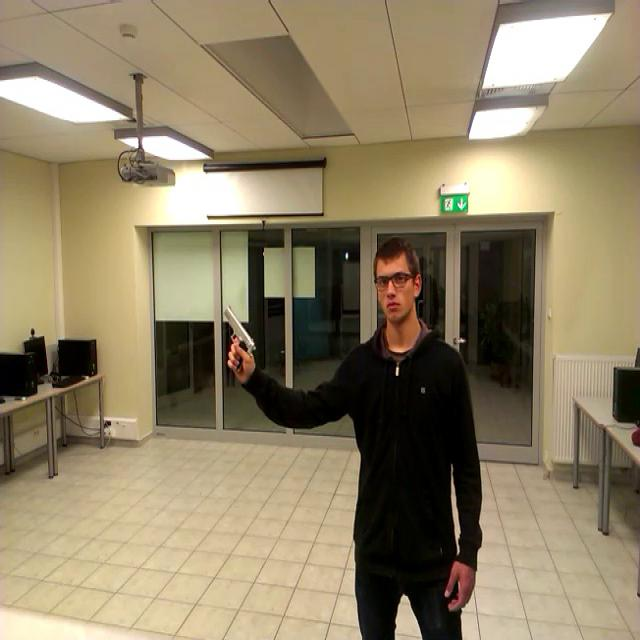handgun: (216, 289, 260, 383)
